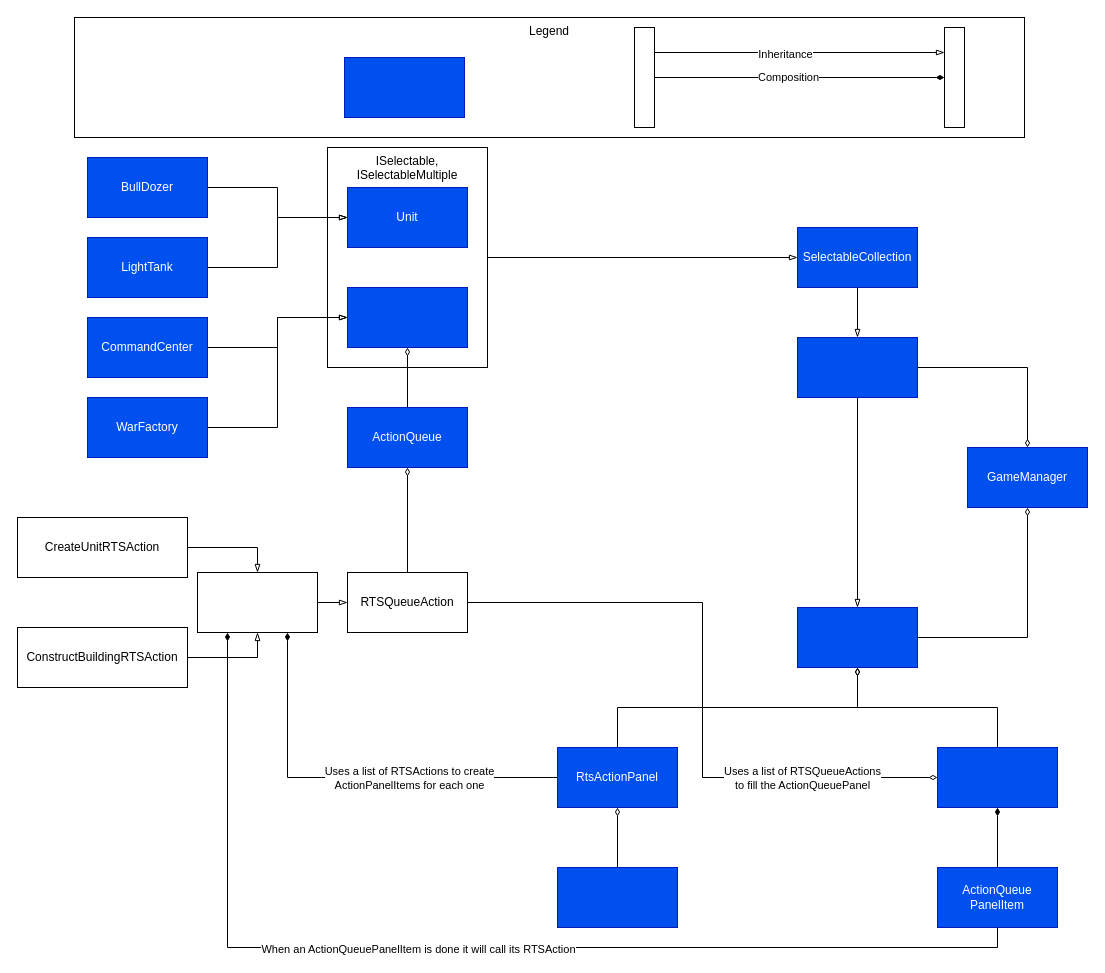
The diagram is 1105 pixels wide and 973 high, and some of its shapes have lost their labels. The shapes that lost their labels are listed below. From the top down, each one's centre as x and y in pixels, then its label:
point (404, 87): MonoBehaviour
point (407, 317): Building
point (857, 367): SelectionManager
point (257, 602): RTSAction
point (857, 637): UIManager
point (997, 777): ActionQueuePanel
point (617, 897): ActionPanelitem
